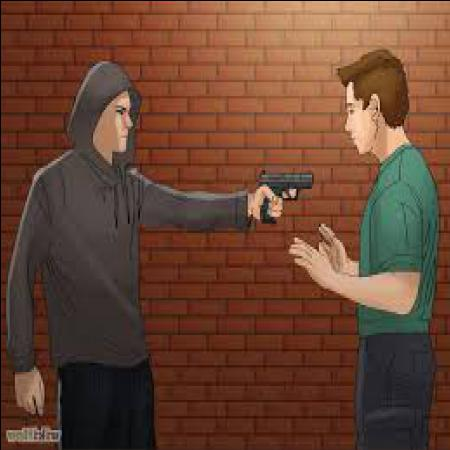Pistol: (258, 164, 316, 220)
